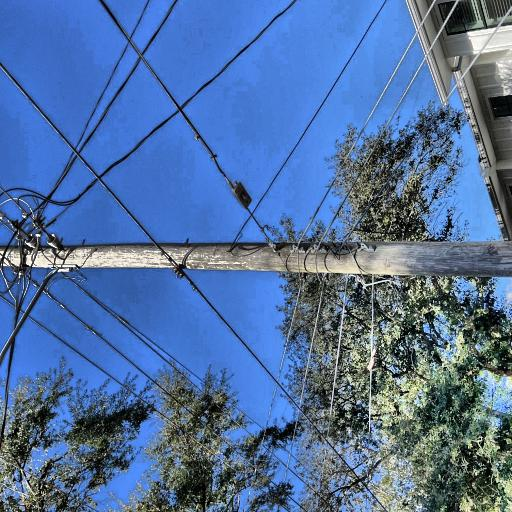pole: (101, 0, 146, 512)
street light: (0, 75, 121, 198)
